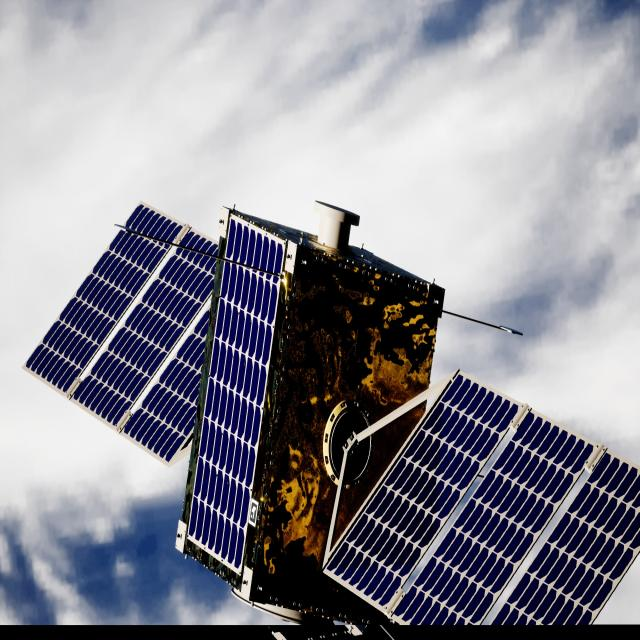satellite: (26, 202, 640, 640)
